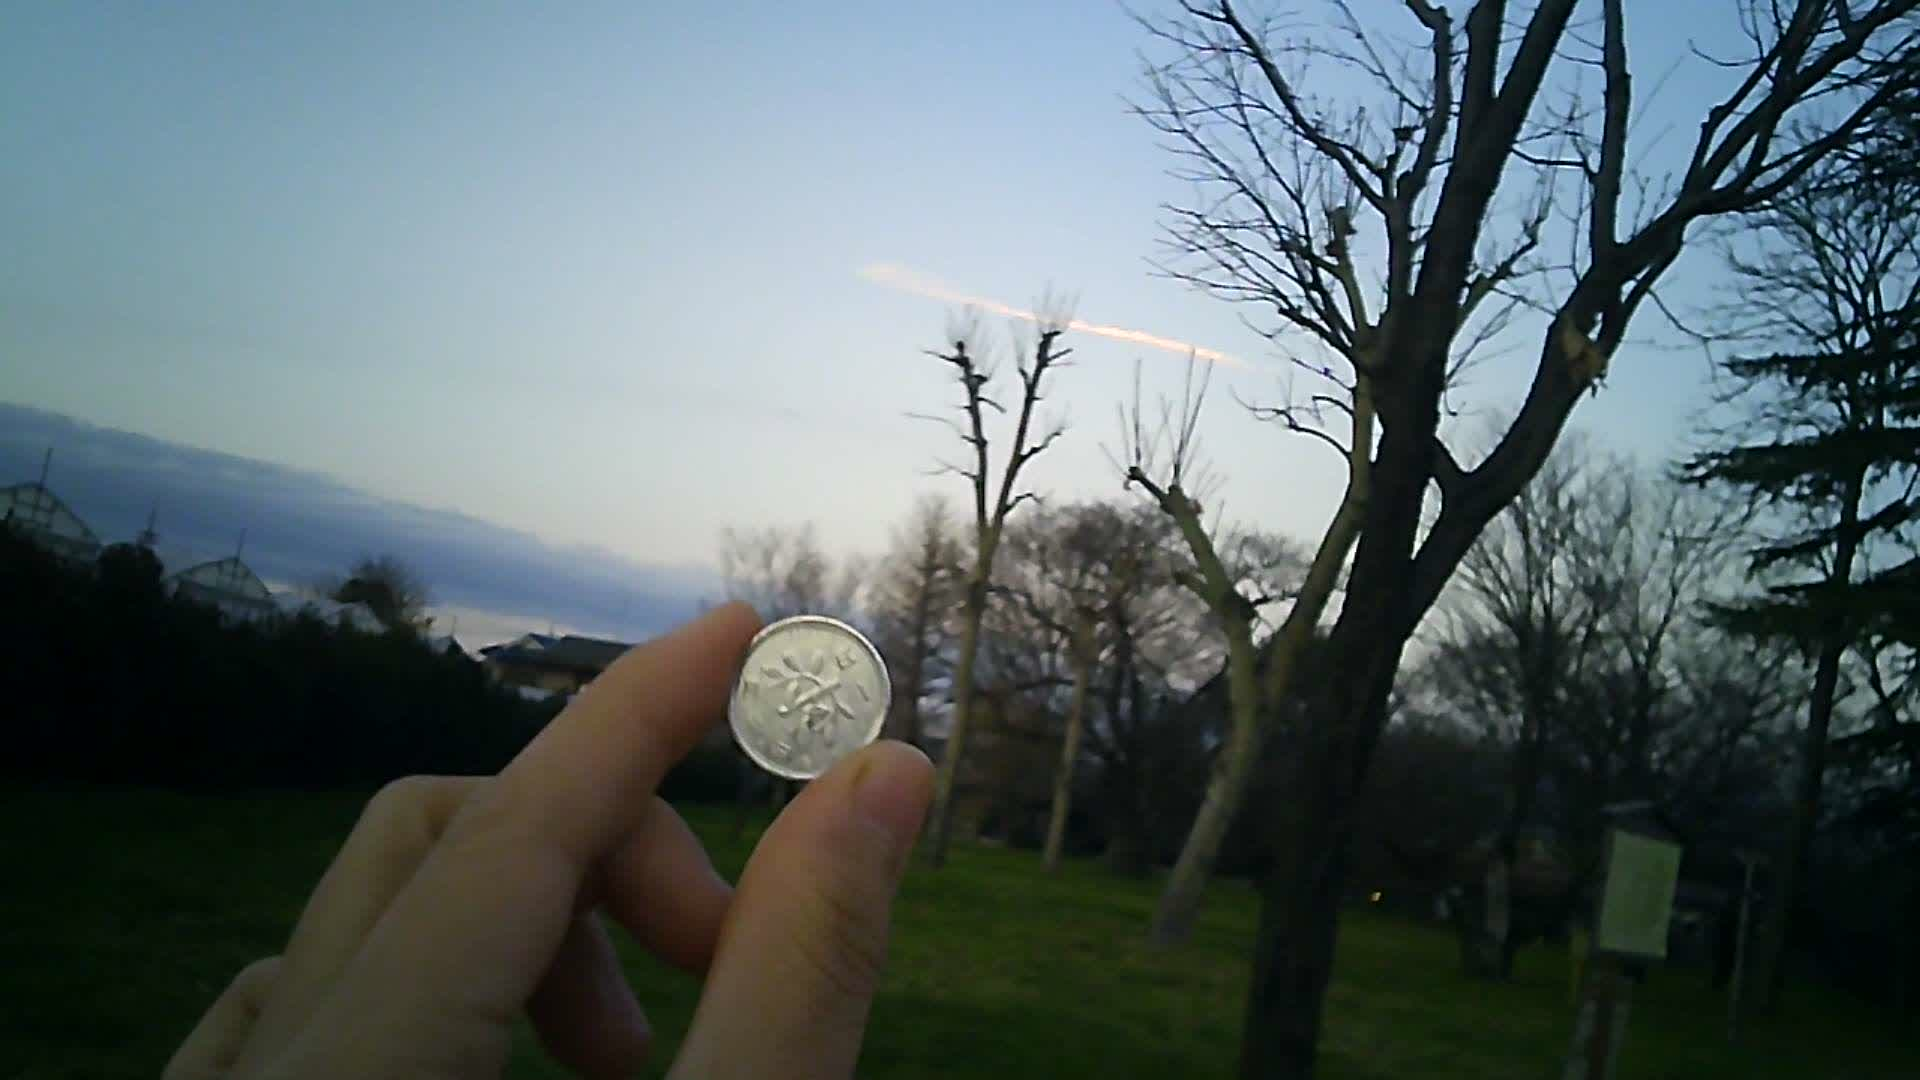1 Yen: (721, 615, 893, 779)
